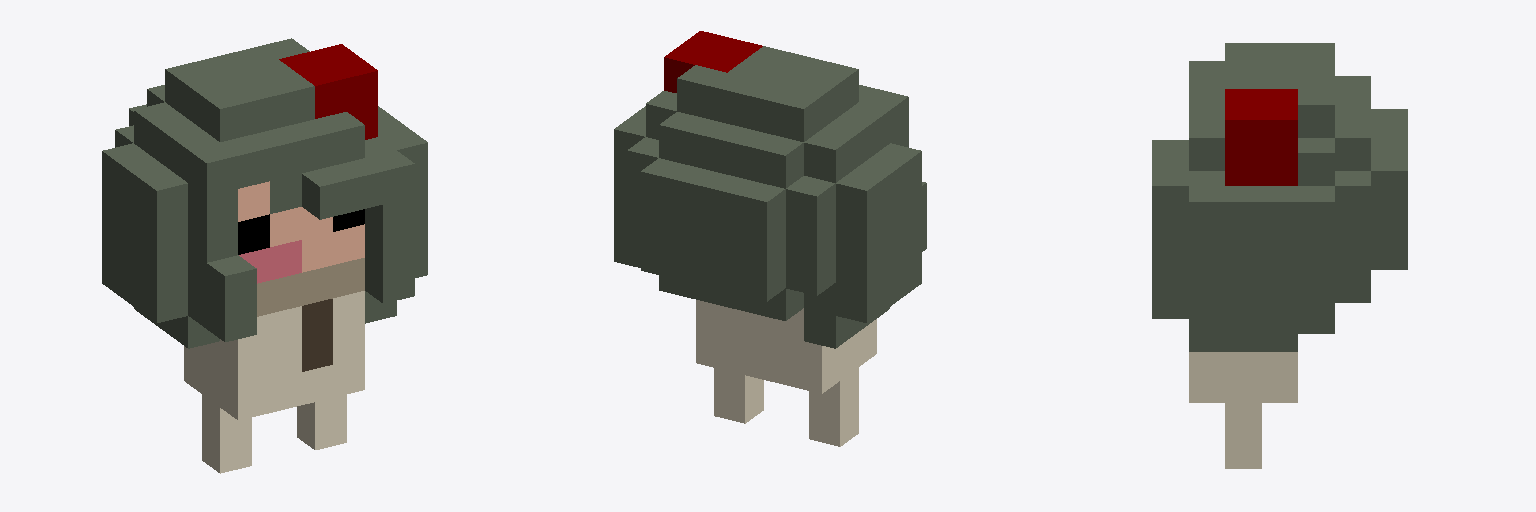
3 views of the same model, side by side, from view 1: azimuth 30°, elevation 25°; view 2: azimuth 150°, elevation 25°; view 3: azimuth 270°, elevation 25° (orthographic).
Size of the model in its own units: 8 by 11 by 7.
1 materials, 1 textured.